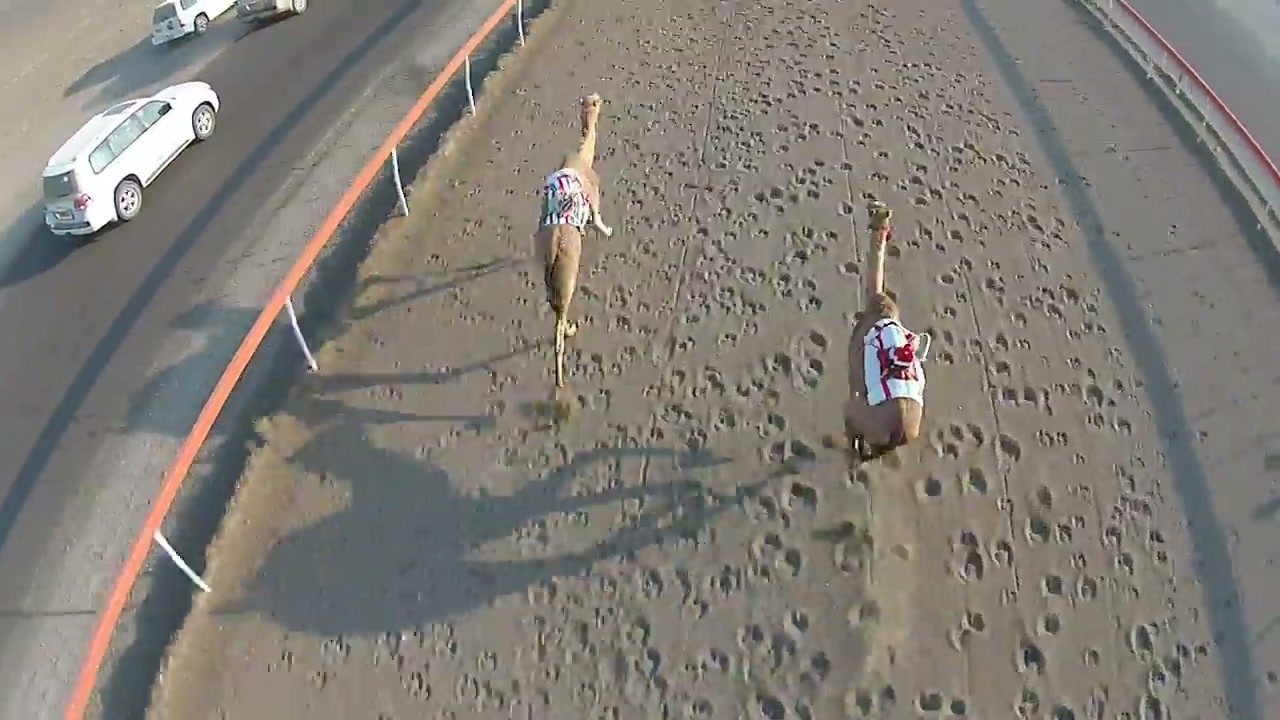animal_foot_print: (840, 44, 1180, 699), (531, 133, 846, 719)
